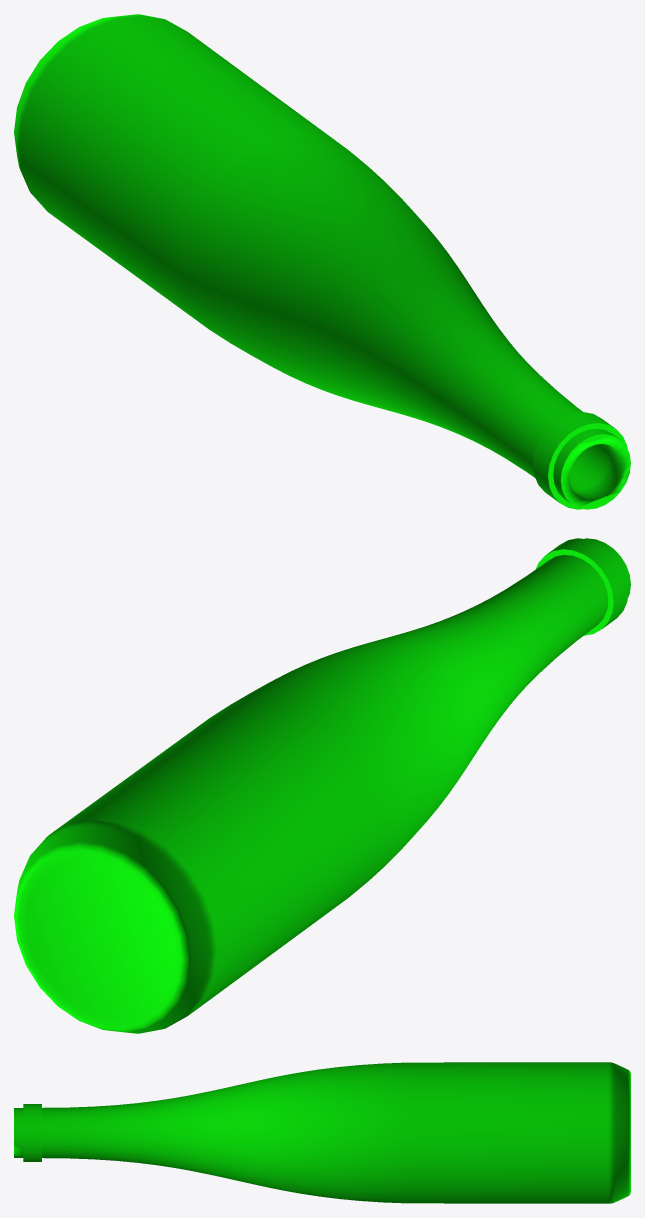
The model's file is model_scale.obj.
3 renders of one model, top to bottom at view 1: azimuth 30°, elevation 25°; view 2: azimuth 150°, elevation 25°; view 3: azimuth 270°, elevation 25°, orthographic. The views are drawn at different scales.
Parts seen in each view (by area): view 1: mesh1_mesh1-geometry; view 2: mesh1_mesh1-geometry; view 3: mesh1_mesh1-geometry.
Part boxes in pixels (<box>): mesh1_mesh1-geometry: <box>14,14,630,509</box>; mesh1_mesh1-geometry: <box>14,538,630,1033</box>; mesh1_mesh1-geometry: <box>14,1062,630,1203</box>.
Bounding box in the file's own units: 0.0368 × 0.0368 × 0.16.
